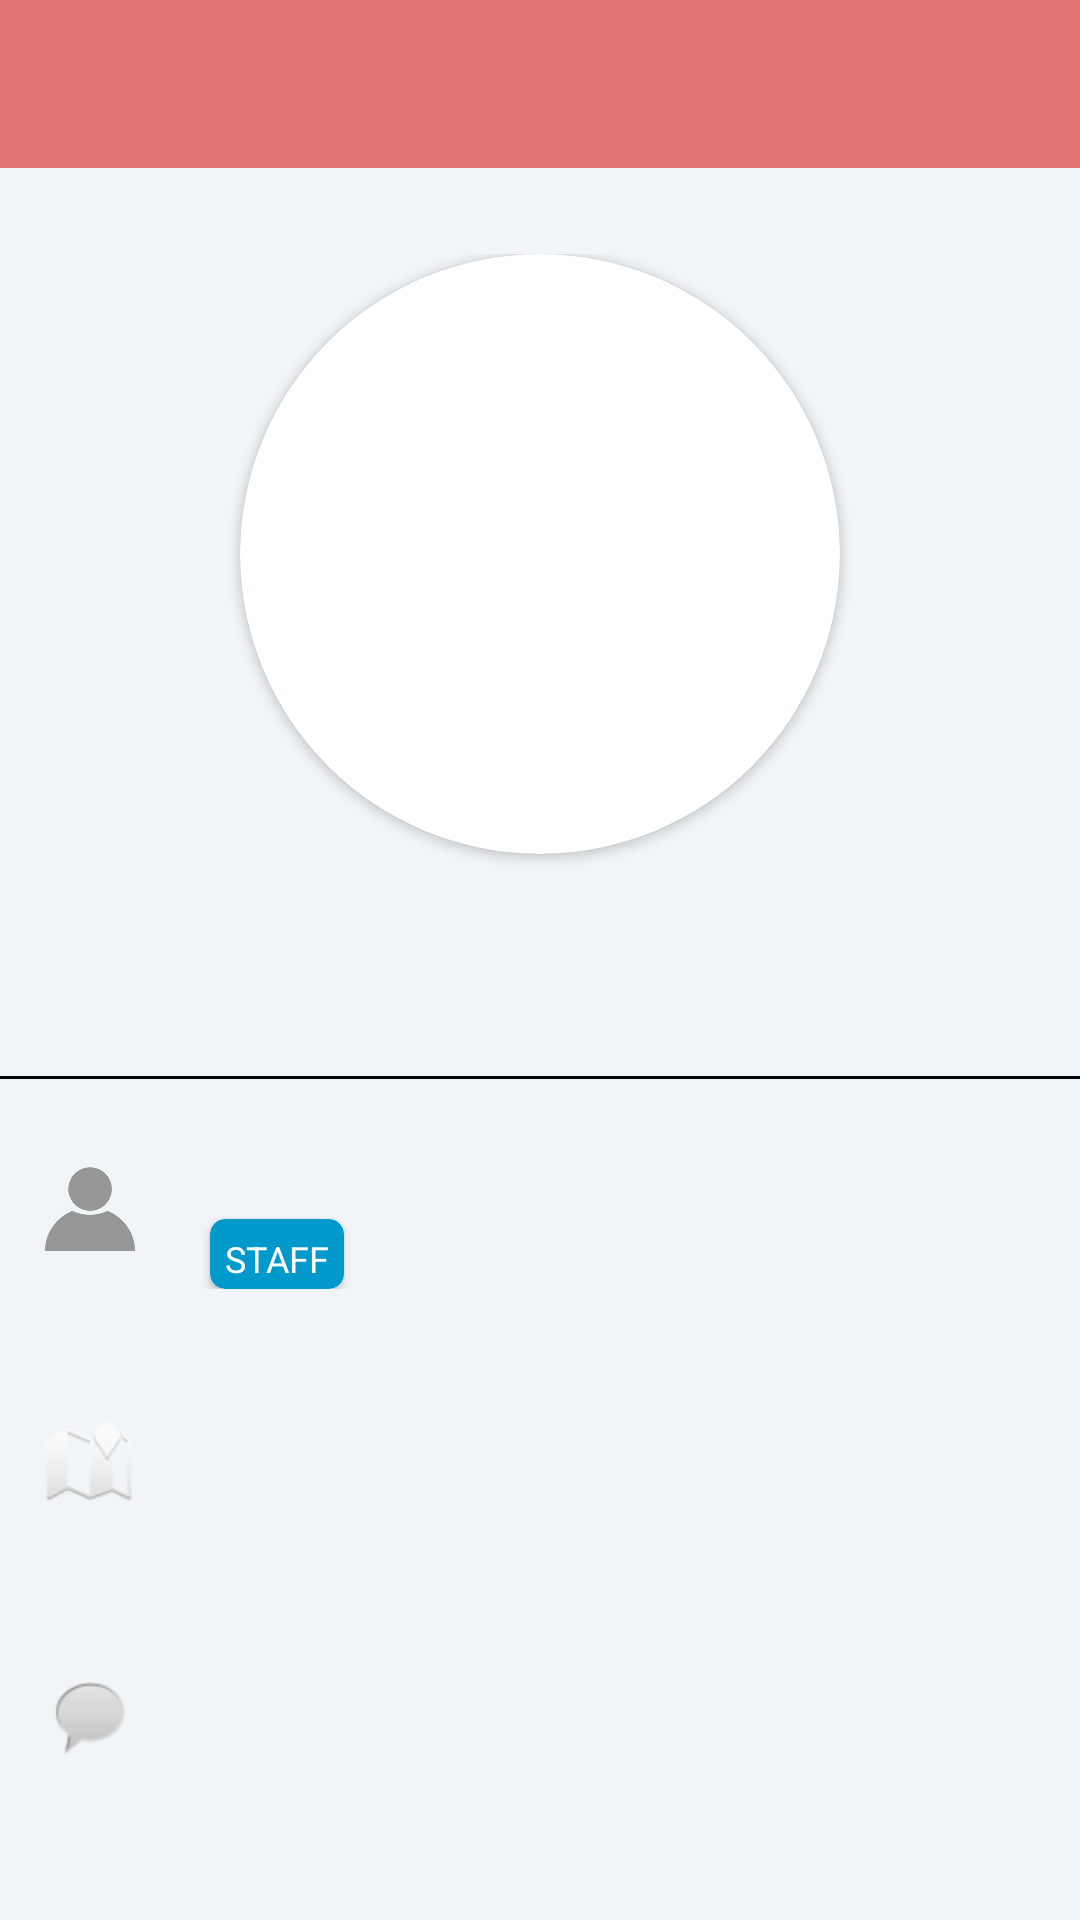

Locate icon controls on the screen. Image size 1080px x 1920px, boxes as region(x1, y1, x2, y2).
map: region(47, 1432, 131, 1500)
sym action chat: region(56, 1682, 123, 1753)
